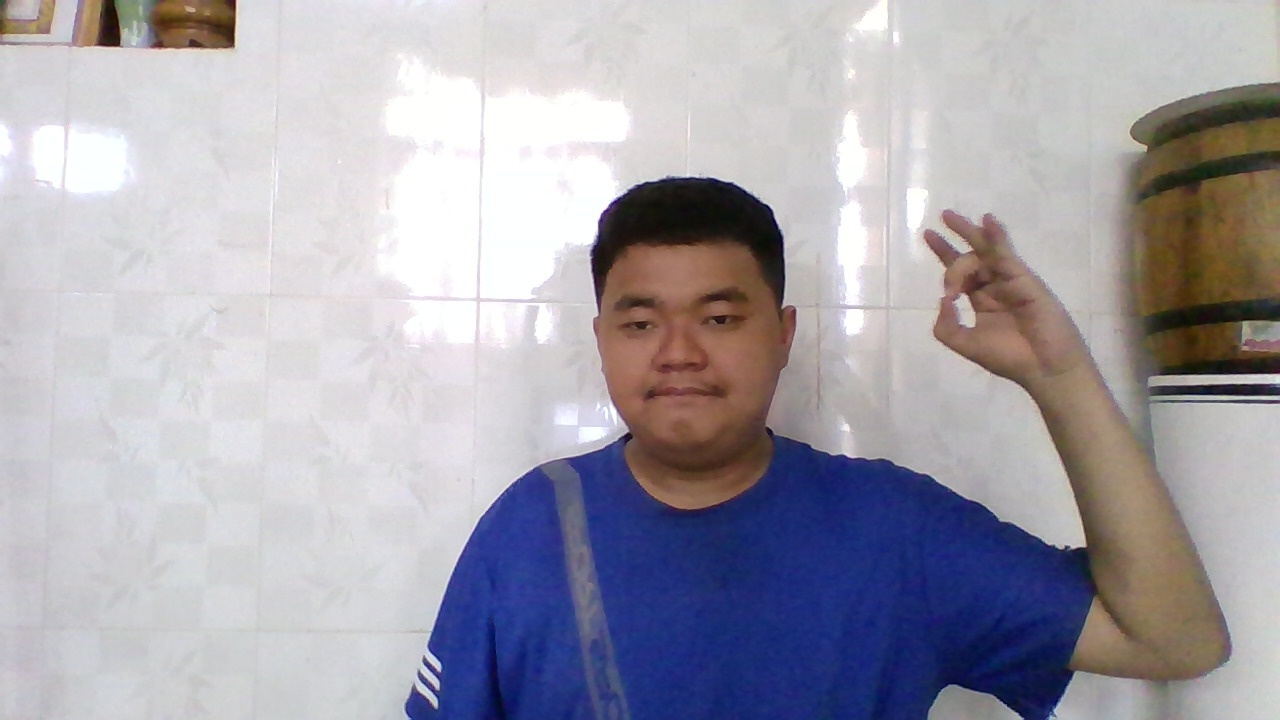H: (913, 197, 1063, 385)
